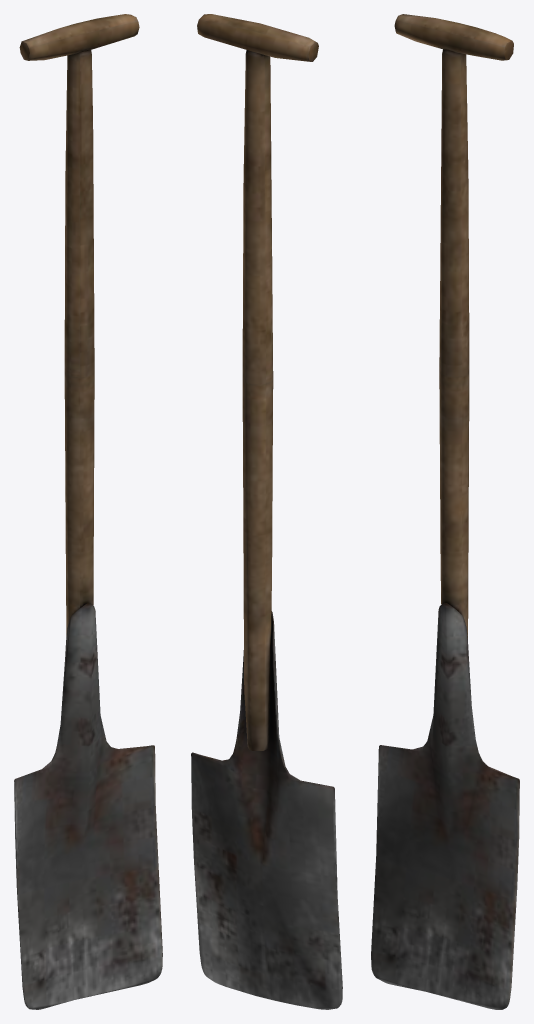
The model's file is rusted_spade_01.glb.
The picture shows the model from 3 angles, left to right: view 1: azimuth 30°, elevation 25°; view 2: azimuth 150°, elevation 25°; view 3: azimuth 330°, elevation 25°; orthographic projection.
Visible parts, largest first — view 1: rusted_spade_01; view 2: rusted_spade_01; view 3: rusted_spade_01.
Boxes of the visible parts, x1,y1,x2,y2 form: rusted_spade_01: (14, 14, 162, 1009); rusted_spade_01: (191, 14, 342, 1009); rusted_spade_01: (371, 14, 519, 1009).
Bounding box in the file's own units: 0.1682 × 1.1 × 0.0453.
1 material, 1 textured.
